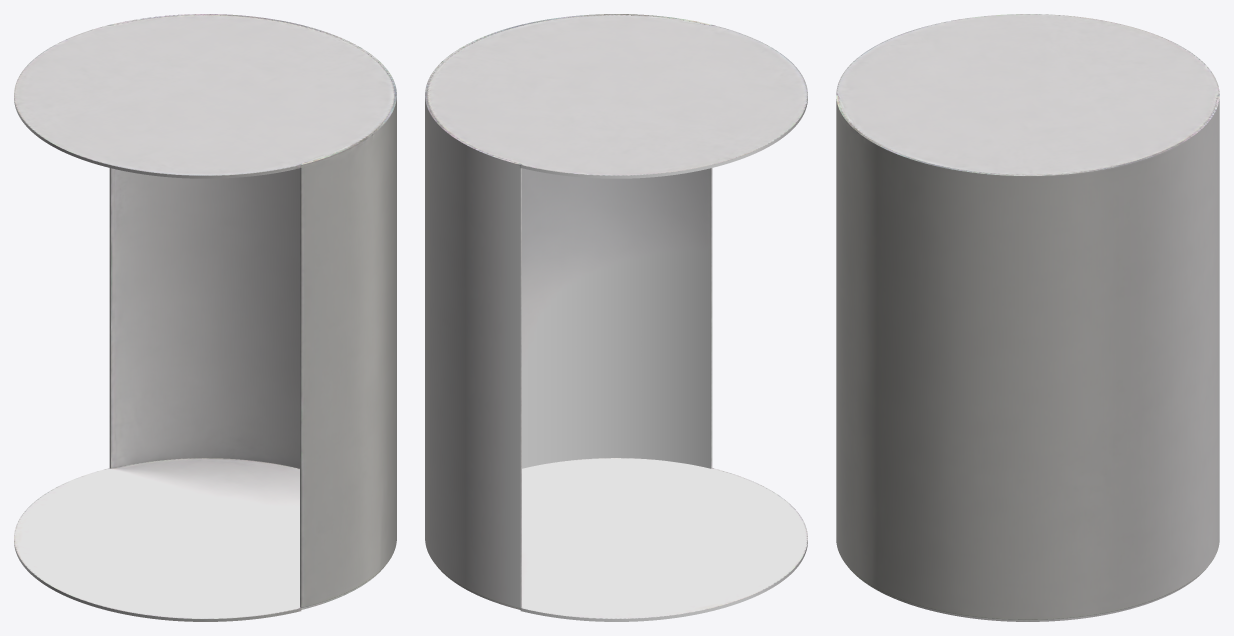
The model's file is cylinder_table_02.glb.
3 views of the same model, side by side, from view 1: azimuth 30°, elevation 25°; view 2: azimuth 150°, elevation 25°; view 3: azimuth 270°, elevation 25° (orthographic).
Parts seen in each view (by area): view 1: body; view 2: body; view 3: body.
Boxes of the visible parts, left/top/right/bottom form: body: left=14, top=14, right=396, bottom=621; body: left=425, top=14, right=807, bottom=621; body: left=836, top=14, right=1219, bottom=621.
Size of the model in its own units: 0.35 by 0.453 by 0.35.
1 material, 1 textured.
